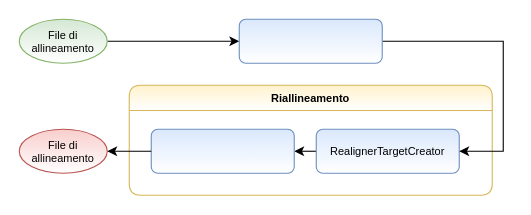
The diagram is 531 pixels wide and 215 high, and some of its shapes have lost their labels. Each missing label, with the box of its shape:
IndelRealigner: (150, 128, 294, 173)
SplitNCigarReads: (238, 18, 382, 63)
